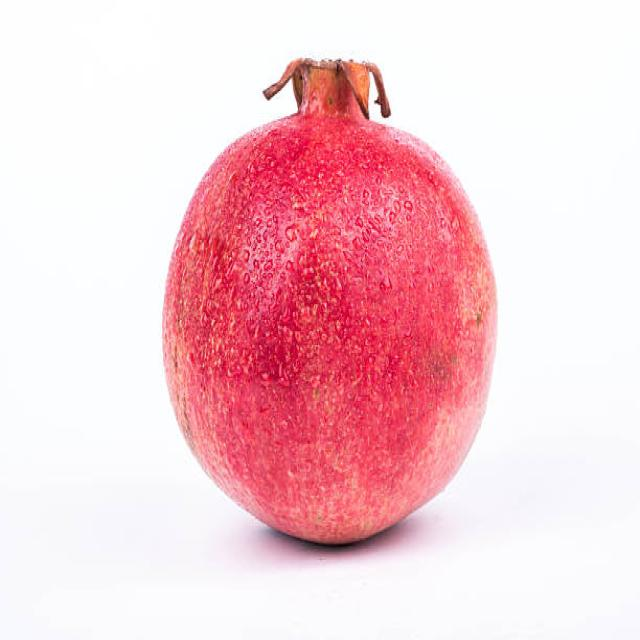Ripe: (163, 47, 502, 549)
